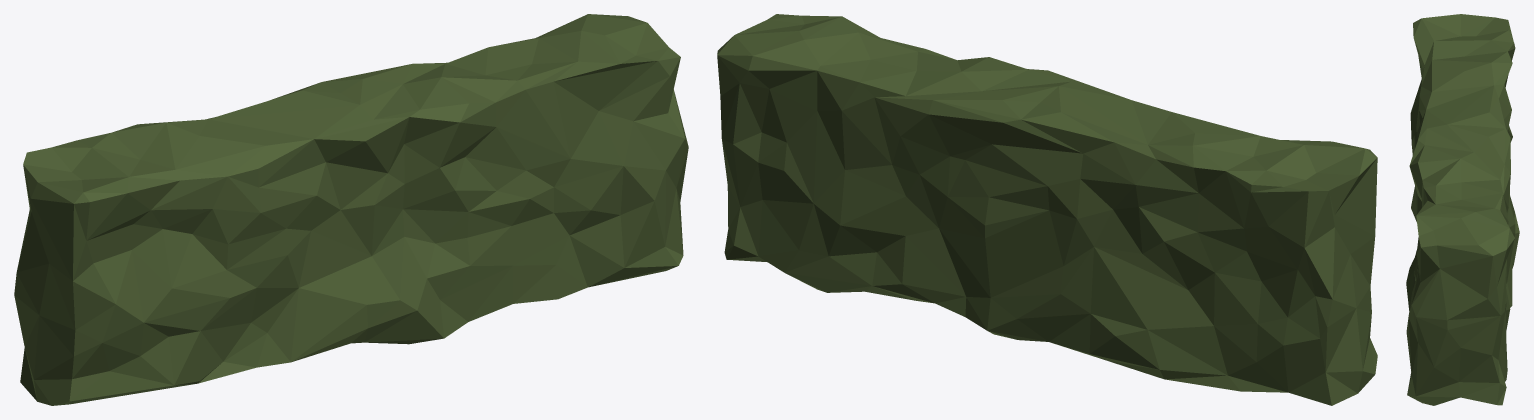
The model's file is SM_Env_Hedge_01.fbx.
3 renders of one model, left to right at view 1: azimuth 30°, elevation 25°; view 2: azimuth 150°, elevation 25°; view 3: azimuth 270°, elevation 25°, orthographic. The views are drawn at different scales.
Visible parts, largest first — view 1: SM_Env_Hedge_01; view 2: SM_Env_Hedge_01; view 3: SM_Env_Hedge_01.
Boxes of the visible parts, box(x1,y1,x2,y2) form: SM_Env_Hedge_01: box(14, 14, 688, 405); SM_Env_Hedge_01: box(717, 14, 1377, 405); SM_Env_Hedge_01: box(1406, 14, 1519, 405).
Size of the model in its own units: 621 by 222 by 127.
